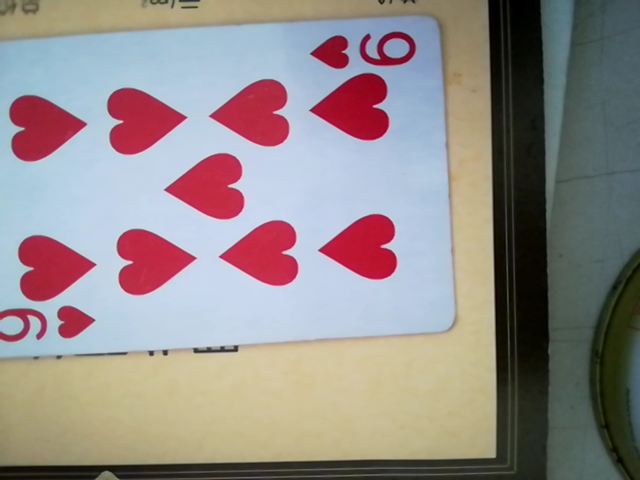hx 9: (3, 17, 450, 365)
